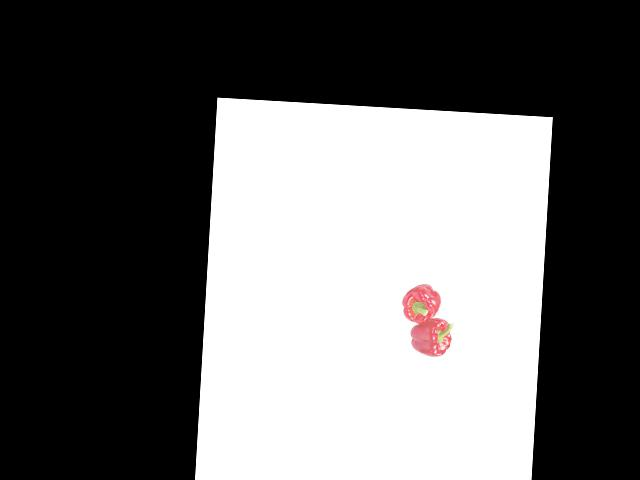bell_pepper: (406, 315, 455, 359)
